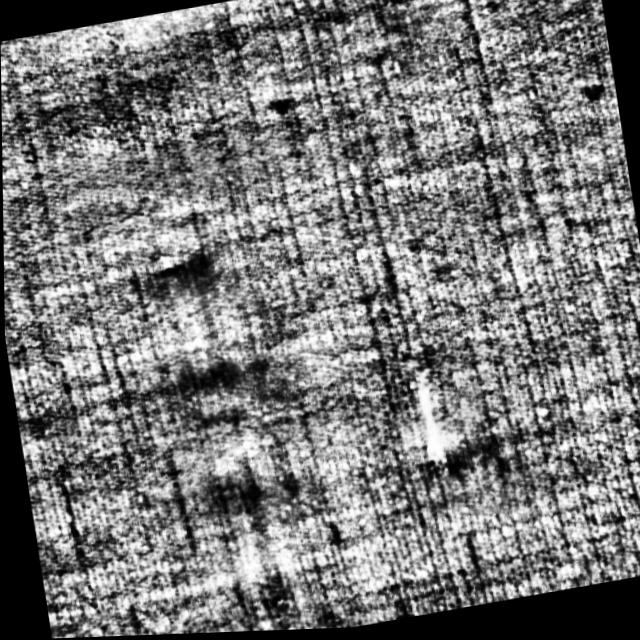Stitch: (126, 239, 316, 636), (396, 344, 505, 492)
